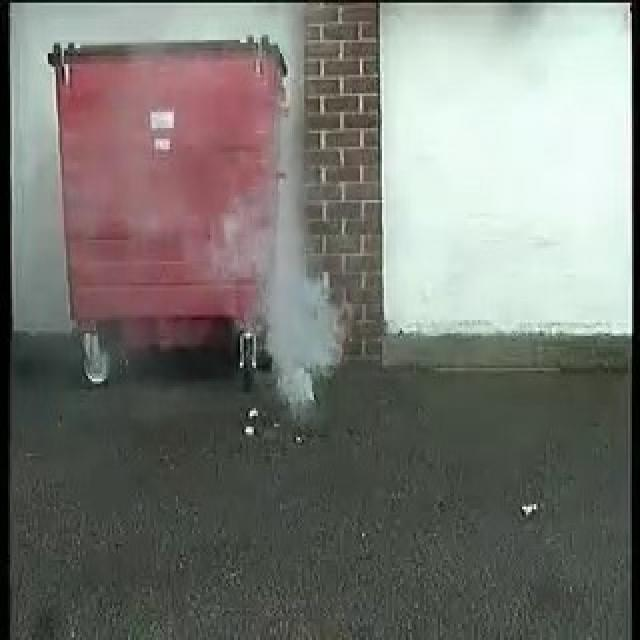smoke: (221, 215, 345, 413)
